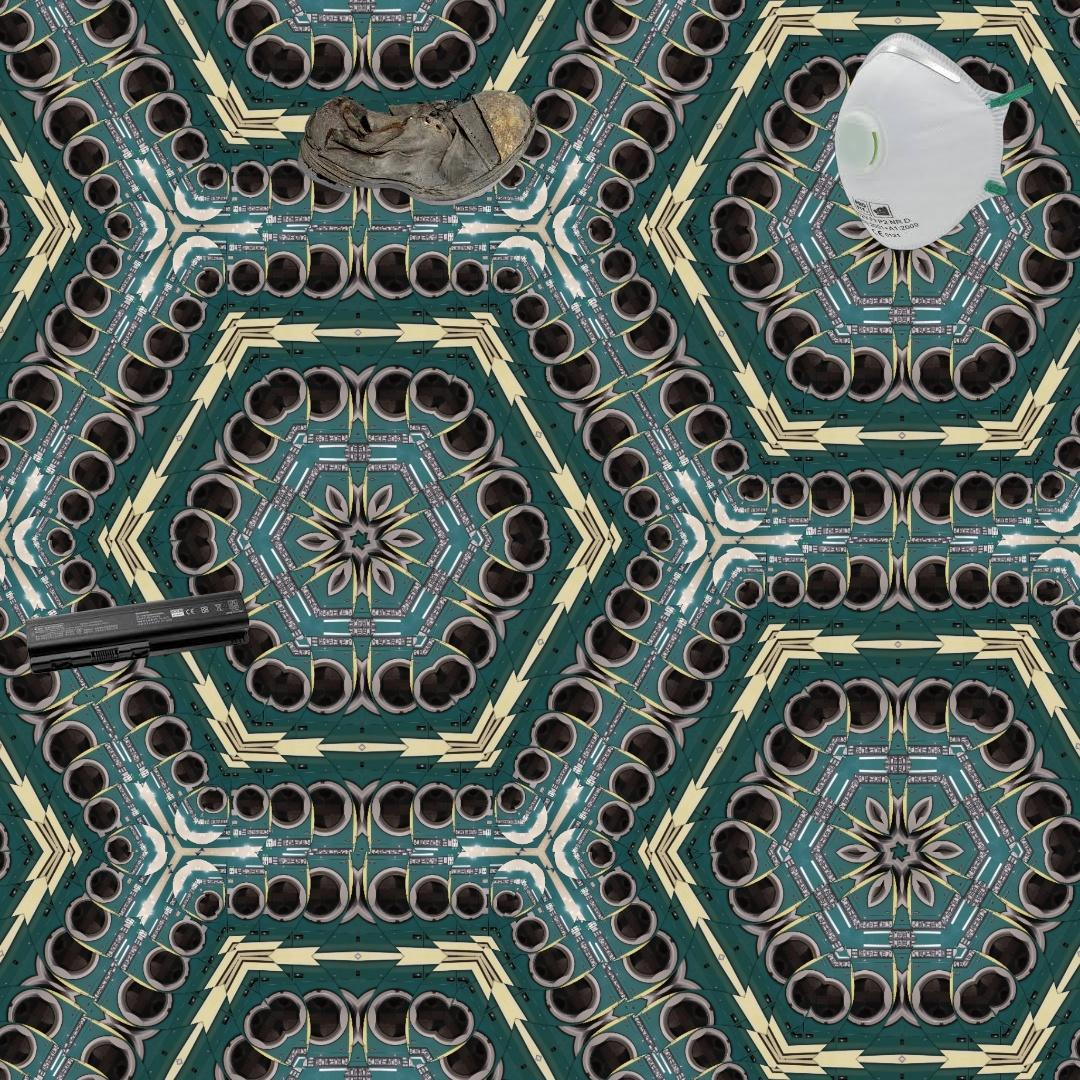battery: (25, 587, 250, 677)
glass: (1051, 910, 1080, 1080)
shoes: (296, 87, 540, 209)
trash: (832, 29, 1033, 253)
